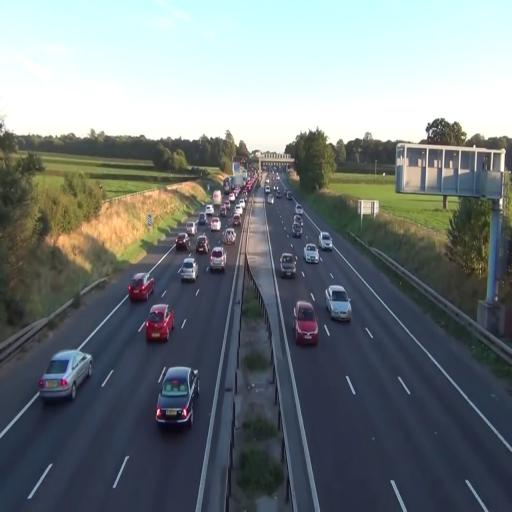vehicle: (38, 349, 93, 401), (155, 365, 200, 426), (145, 304, 175, 342), (294, 300, 318, 346), (325, 283, 352, 321), (128, 273, 154, 304), (179, 256, 198, 284), (279, 251, 298, 277), (209, 246, 227, 273), (304, 243, 320, 265), (195, 233, 209, 256), (175, 232, 189, 252), (232, 204, 244, 226), (320, 232, 332, 251)
